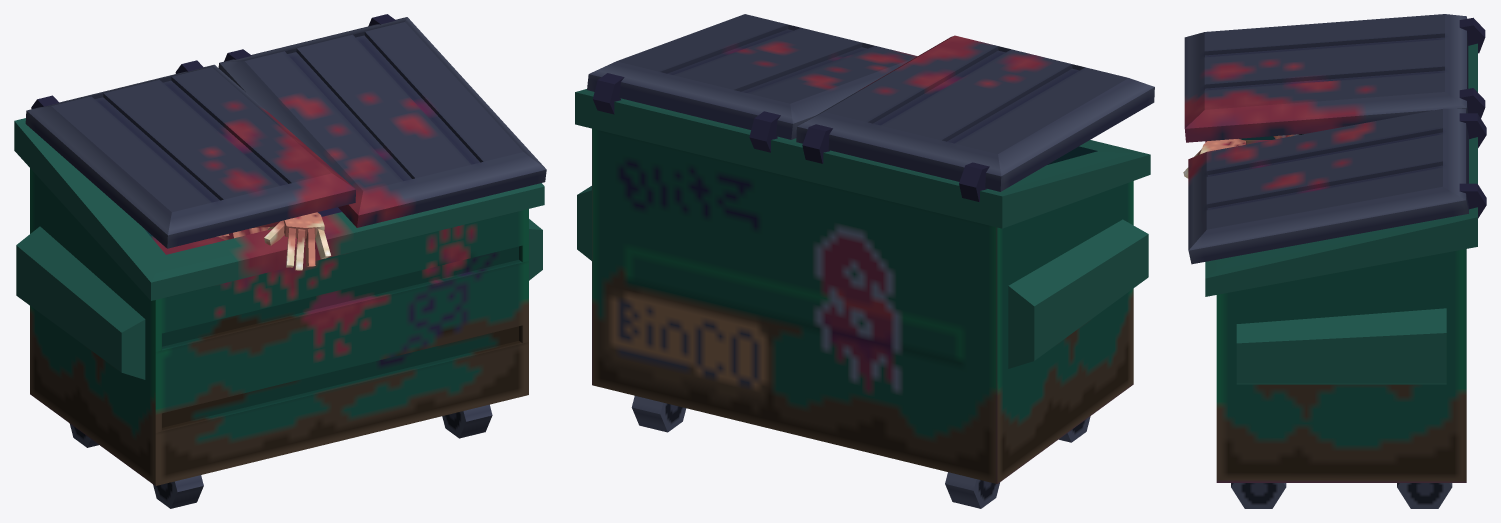
Rendered from Bload_Soaked_Bin_Model.fbx.
The picture shows the model from 3 angles, left to right: view 1: azimuth 30°, elevation 25°; view 2: azimuth 150°, elevation 25°; view 3: azimuth 270°, elevation 25°; orthographic projection. The views are drawn at different scales.
Visible parts, largest first — view 1: GEO_Bin; view 2: GEO_Bin; view 3: GEO_Bin.
Boxes of the visible parts, x1,y1,x2,y2 form: GEO_Bin: [14, 14, 546, 508]; GEO_Bin: [575, 14, 1154, 508]; GEO_Bin: [1183, 14, 1486, 508].
Size of the model in its own units: 9.63 by 7.29 by 6.02.
Materials: 1 (1 with a texture image).
